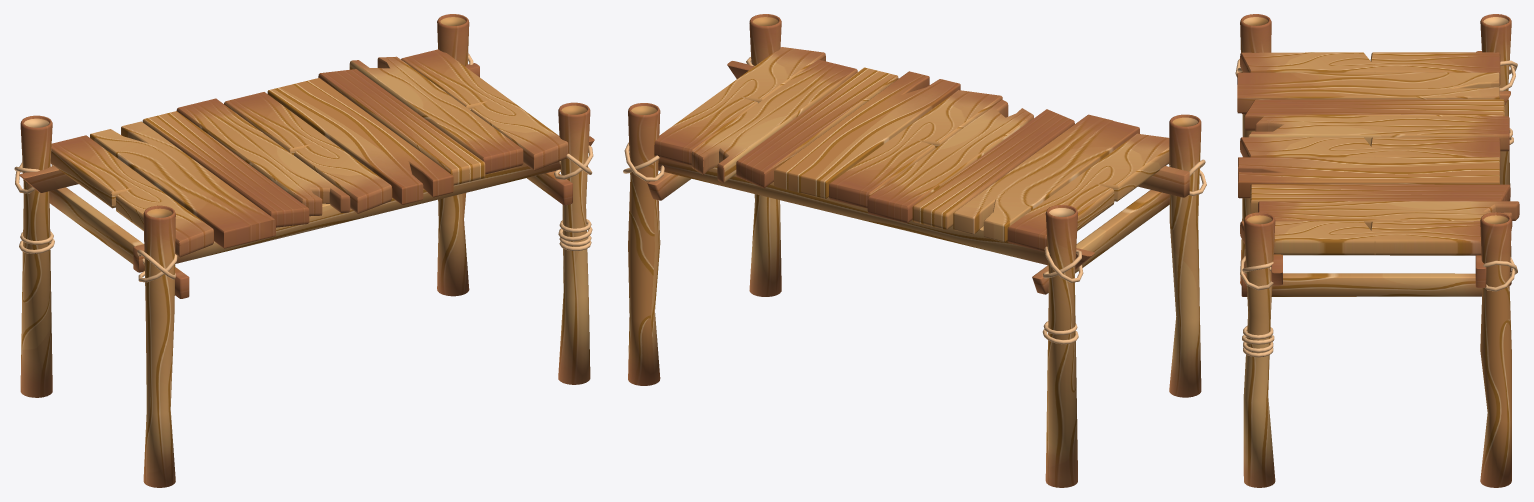
The model's file is dock.fbx.
3 renders of one model, left to right at view 1: azimuth 30°, elevation 25°; view 2: azimuth 150°, elevation 25°; view 3: azimuth 270°, elevation 25°, orthographic. The views are drawn at different scales.
Parts seen in each view (by area): view 1: Cube.014, Spiral; view 2: Cube.014, Spiral; view 3: Cube.014, Spiral.
Part boxes in pixels (left/top/right/bottom): Cube.014: left=19, top=49, right=594, bottom=272; Spiral: left=14, top=14, right=593, bottom=487; Cube.014: left=654, top=47, right=1189, bottom=269; Spiral: left=623, top=14, right=1206, bottom=487; Cube.014: left=1237, top=51, right=1519, bottom=287; Spiral: left=1235, top=14, right=1517, bottom=487.
Bounding box in the file's own units: 482 × 266 × 260.
